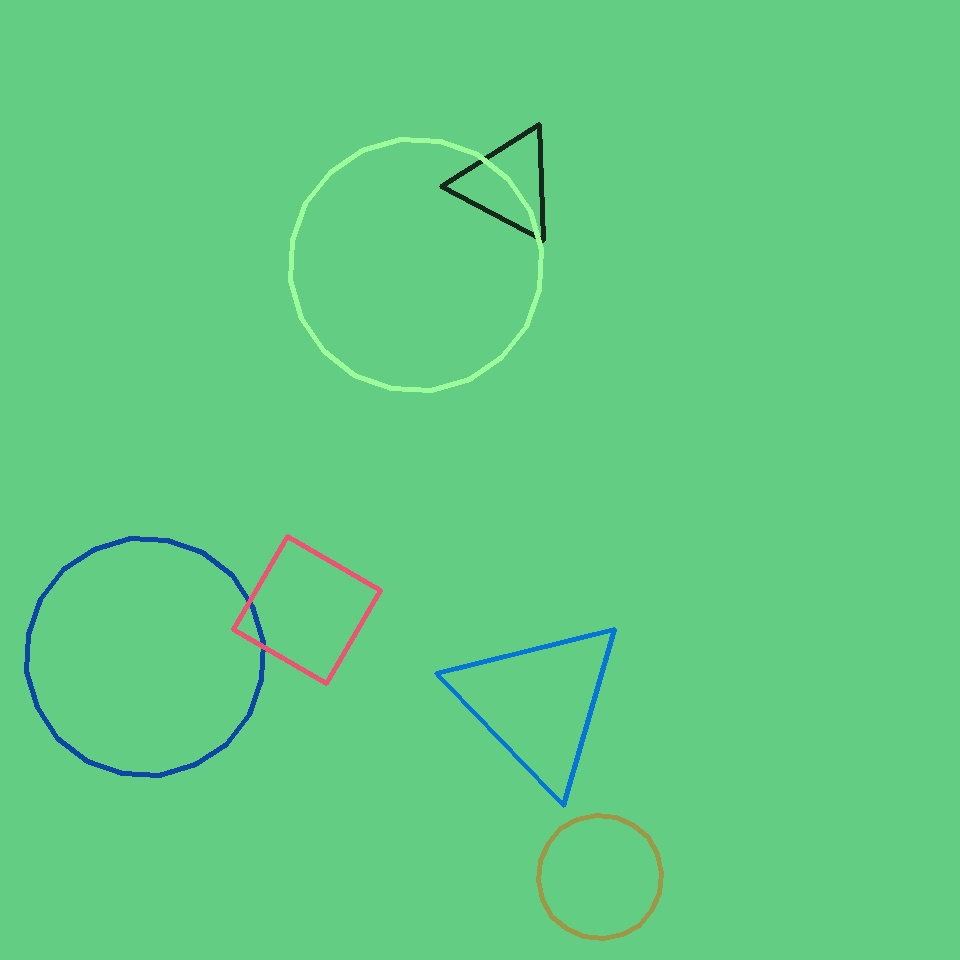circle: (449, 615, 627, 791), (457, 126, 559, 242)
square: (233, 536, 380, 684)
triangle: (290, 140, 542, 390), (26, 538, 264, 775), (538, 816, 662, 938)
